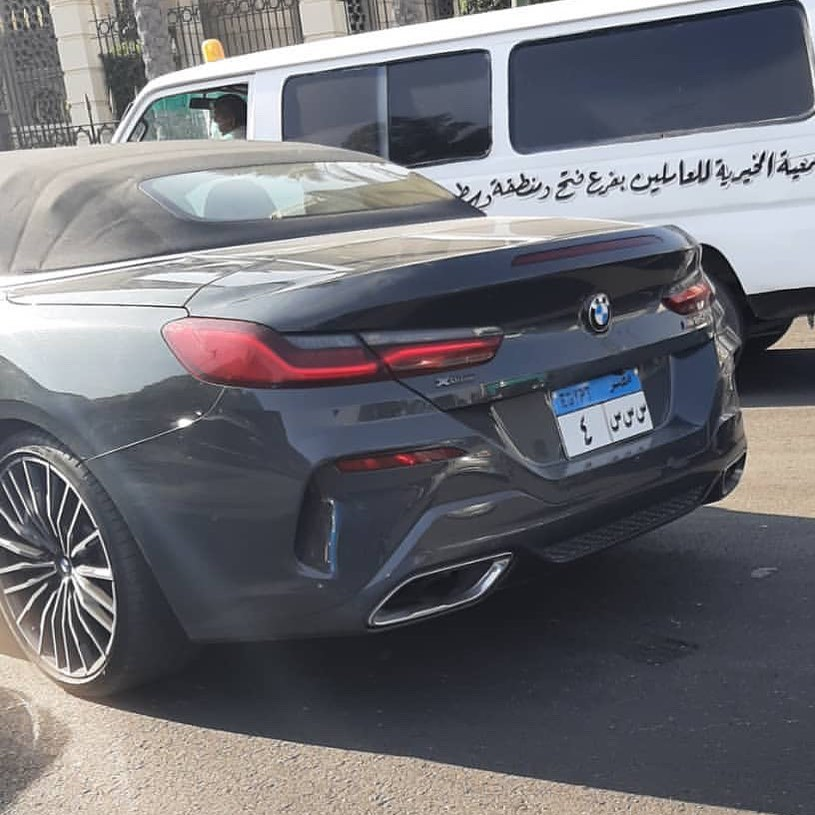carpl: (562, 381, 659, 461)
